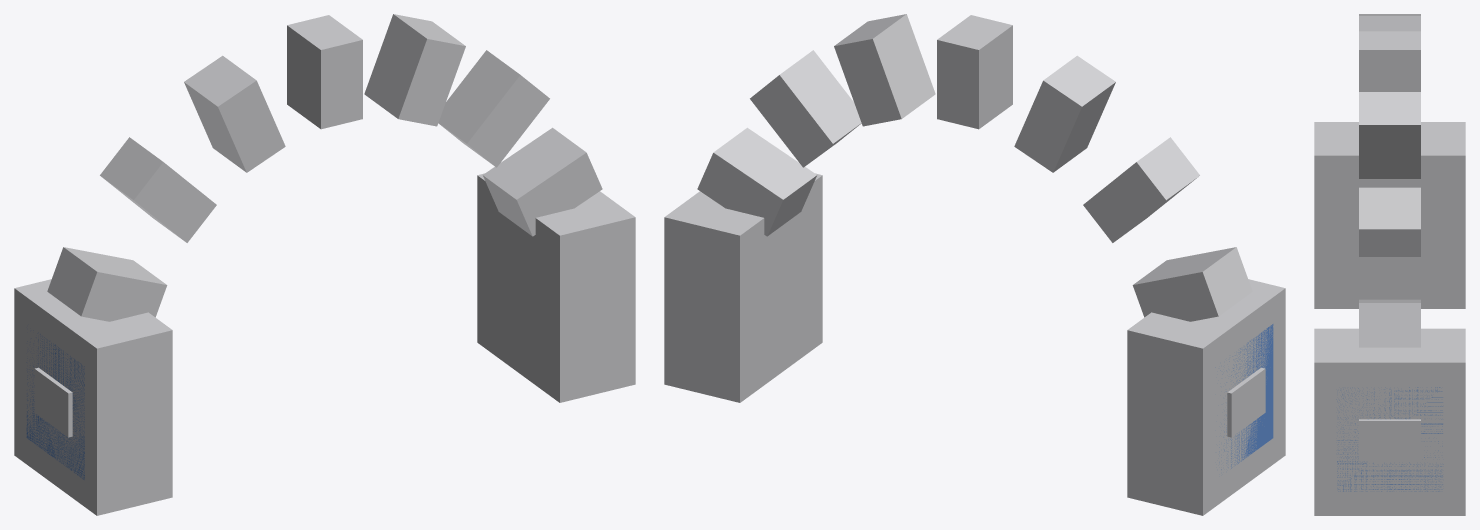
The model's file is av_acc_headphones.glb.
3 renders of one model, left to right at view 1: azimuth 30°, elevation 25°; view 2: azimuth 150°, elevation 25°; view 3: azimuth 270°, elevation 25°, orthographic. The views are drawn at different scales.
Bounding box in the file's own units: 0.65 × 0.44 × 0.17.
